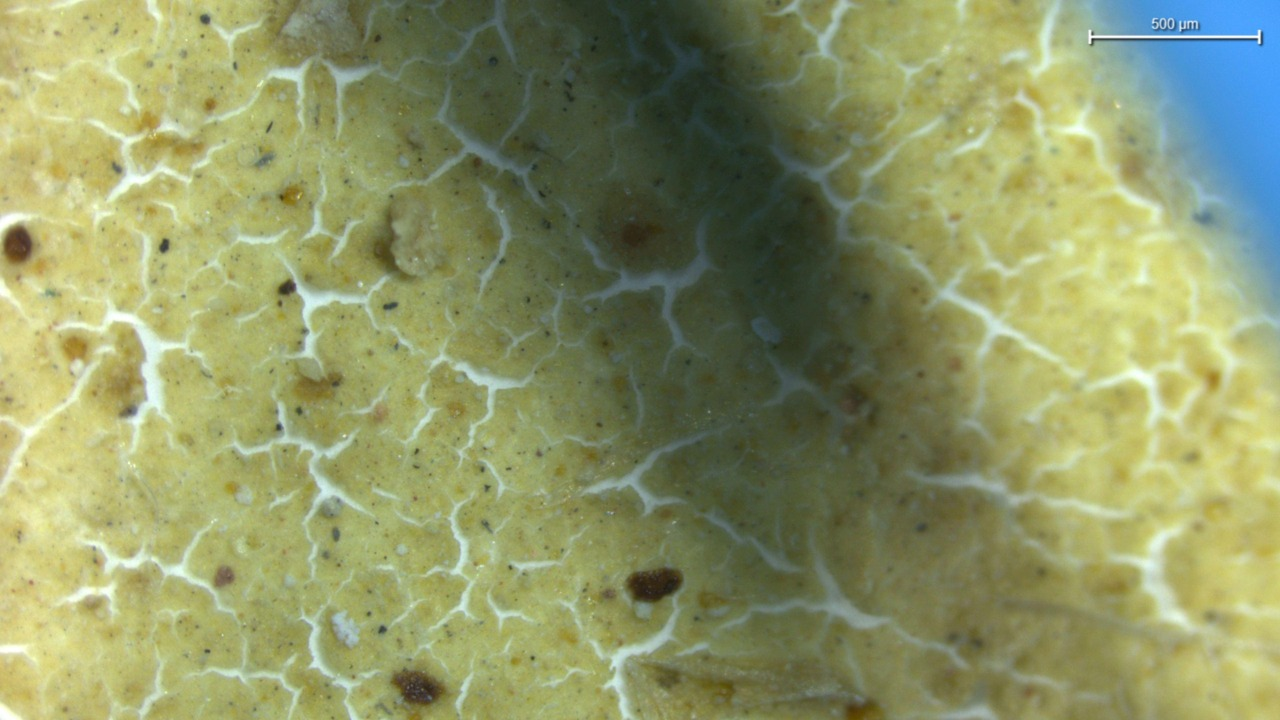microplastic_fragment: (391, 194, 447, 277), (332, 611, 359, 648)
